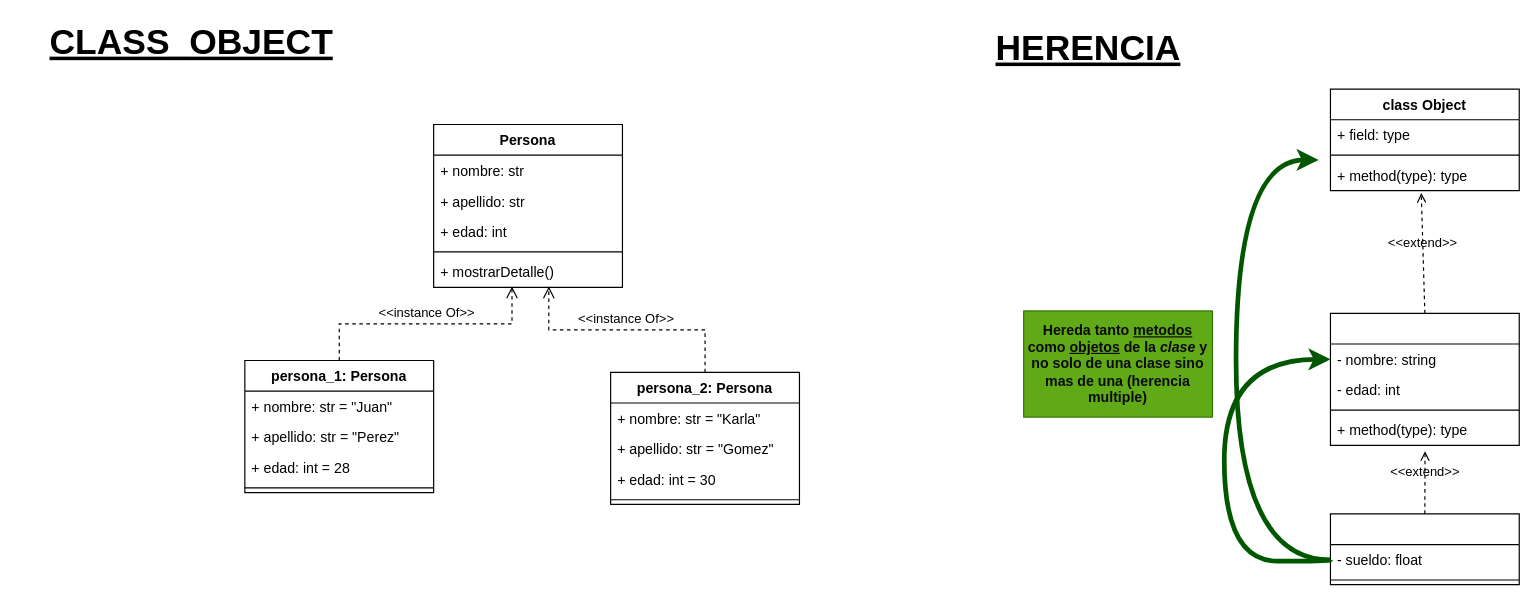
This 1540x605 diagram has some shape labels left out. Each missing label, with the box of its shape:
class Empleado: (1329, 513, 1519, 585)
class Persona: (1329, 312, 1519, 445)
